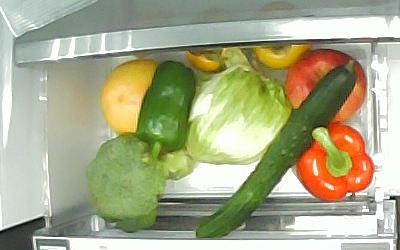apple: (284, 49, 367, 122)
broccoli: (87, 133, 192, 235)
cucumber: (194, 60, 357, 238)
grapefruit: (99, 58, 161, 133)
lettuce: (182, 66, 292, 164)
paprika: (291, 122, 374, 200), (135, 60, 197, 162)
persimmon: (250, 43, 311, 69), (184, 48, 246, 73)
